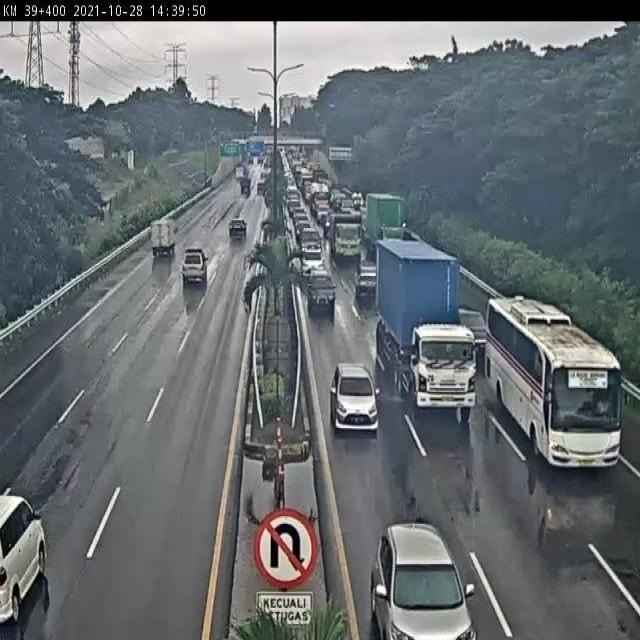big bus: (489, 299, 619, 465)
big truck: (376, 237, 480, 420)
car: (371, 506, 469, 640), (328, 364, 377, 432), (446, 309, 488, 364), (305, 269, 338, 312), (180, 249, 211, 287), (352, 259, 377, 297), (299, 224, 324, 256), (228, 220, 250, 243)
mid truck: (325, 212, 361, 257)
small truck: (143, 216, 178, 259)
